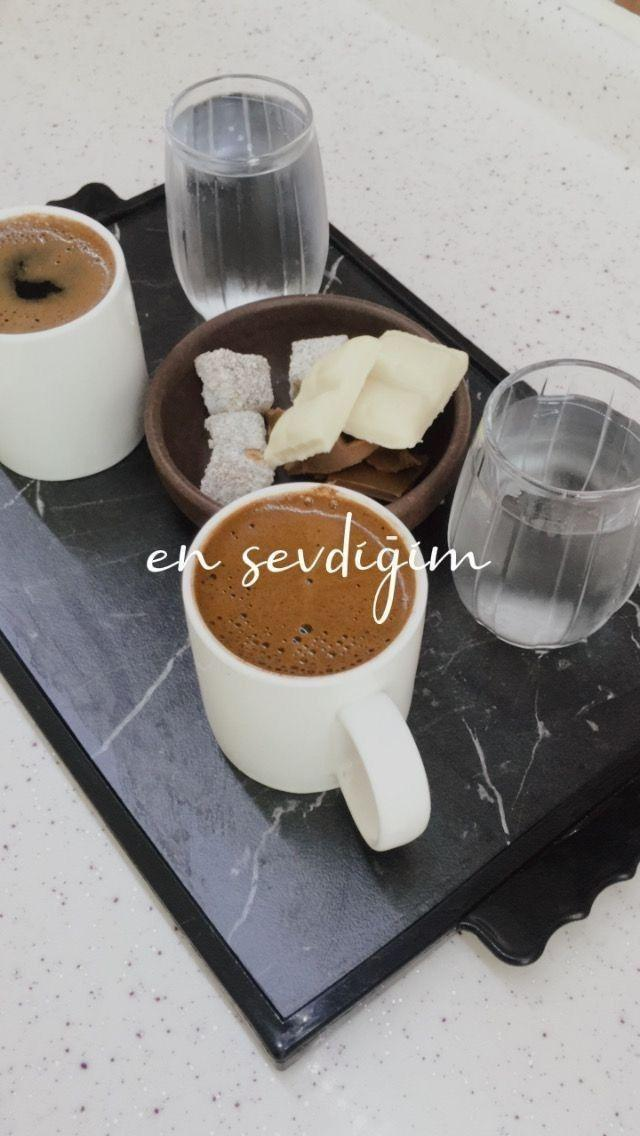cup-handle: (171, 475, 437, 854), (1, 199, 153, 484)
glass-normal: (441, 353, 639, 653), (157, 69, 335, 318)
